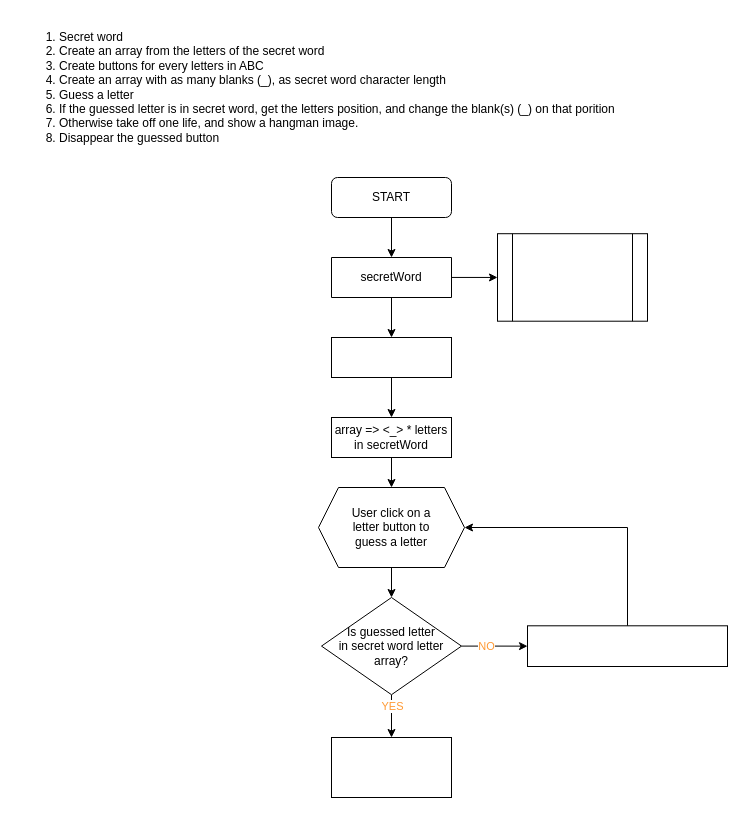
This 745x815 diagram has some shape labels left out. Here are the shapes that lost their labels. From the top down, the box of each, then its label:
(496, 233, 648, 321): ? User can type, or random from a list array => <letters> <lovercase>
(330, 336, 452, 378): <button> * letters in english alphabet
(526, 625, 728, 666): Display hangman image Life reduced by 1
